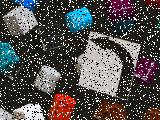Left: (78, 32, 141, 100)
